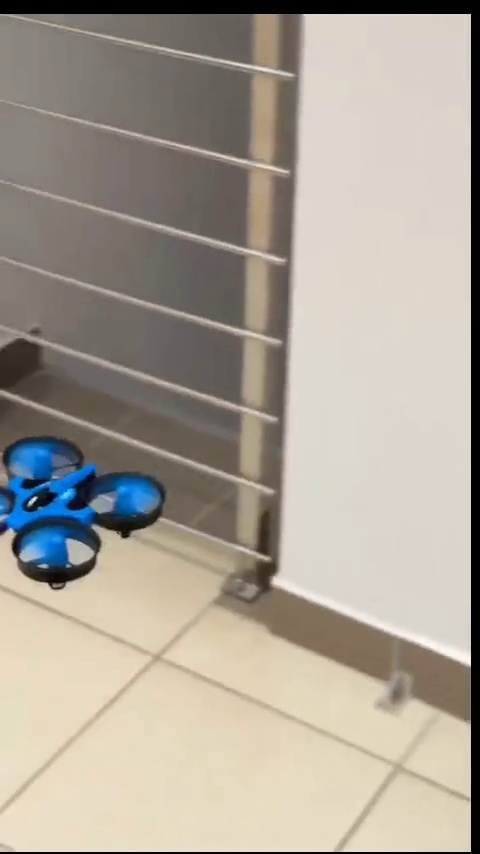drone: (3, 435, 163, 592)
